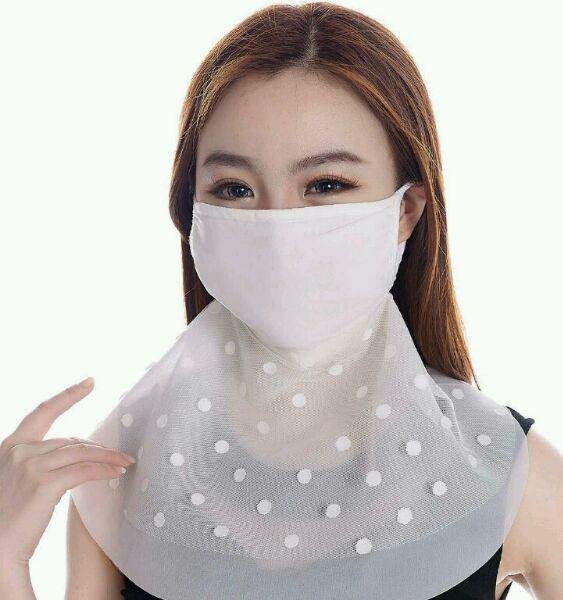OK: (189, 139, 394, 344)
